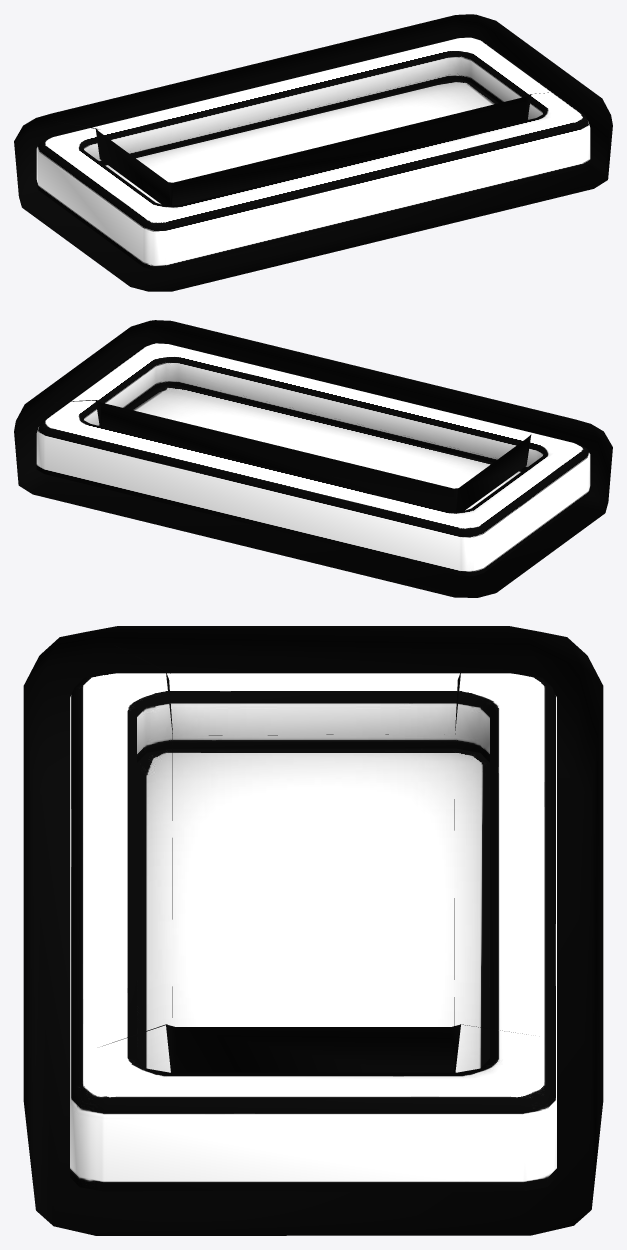
File: button_base_rectangle.glb
3 views of the same model, one above another, from view 1: azimuth 30°, elevation 25°; view 2: azimuth 150°, elevation 25°; view 3: azimuth 270°, elevation 25° (orthographic). The views are drawn at different scales.
Visible parts, largest first — view 1: button_base_rectangle; view 2: button_base_rectangle; view 3: button_base_rectangle.
Boxes of the visible parts, x1,y1,x2,y2 form: button_base_rectangle: [14, 14, 612, 291]; button_base_rectangle: [14, 320, 612, 597]; button_base_rectangle: [23, 626, 603, 1235].
Size of the model in its own units: 0.5182 by 0.0832 by 0.2682.
1 material, 1 textured.
